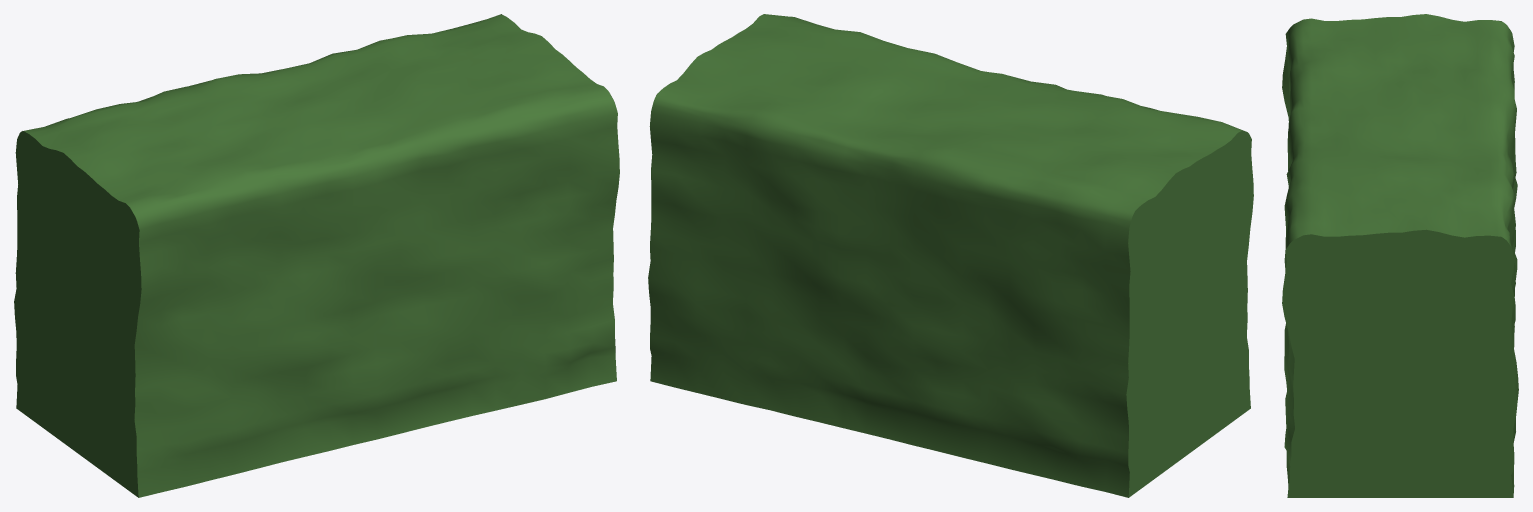
File: hedge_block.glb
3 views of the same model, side by side, from view 1: azimuth 30°, elevation 25°; view 2: azimuth 150°, elevation 25°; view 3: azimuth 270°, elevation 25° (orthographic). The views are drawn at different scales.
Visible parts, largest first — view 1: hedge; view 2: hedge; view 3: hedge.
Boxes of the visible parts, x1=… form: hedge: x1=14, y1=14, x2=619, y2=497; hedge: x1=648, y1=14, x2=1253, y2=497; hedge: x1=1282, y1=14, x2=1518, y2=497.
Bounding box in the file's own units: 1 × 0.5813 × 0.4638.
